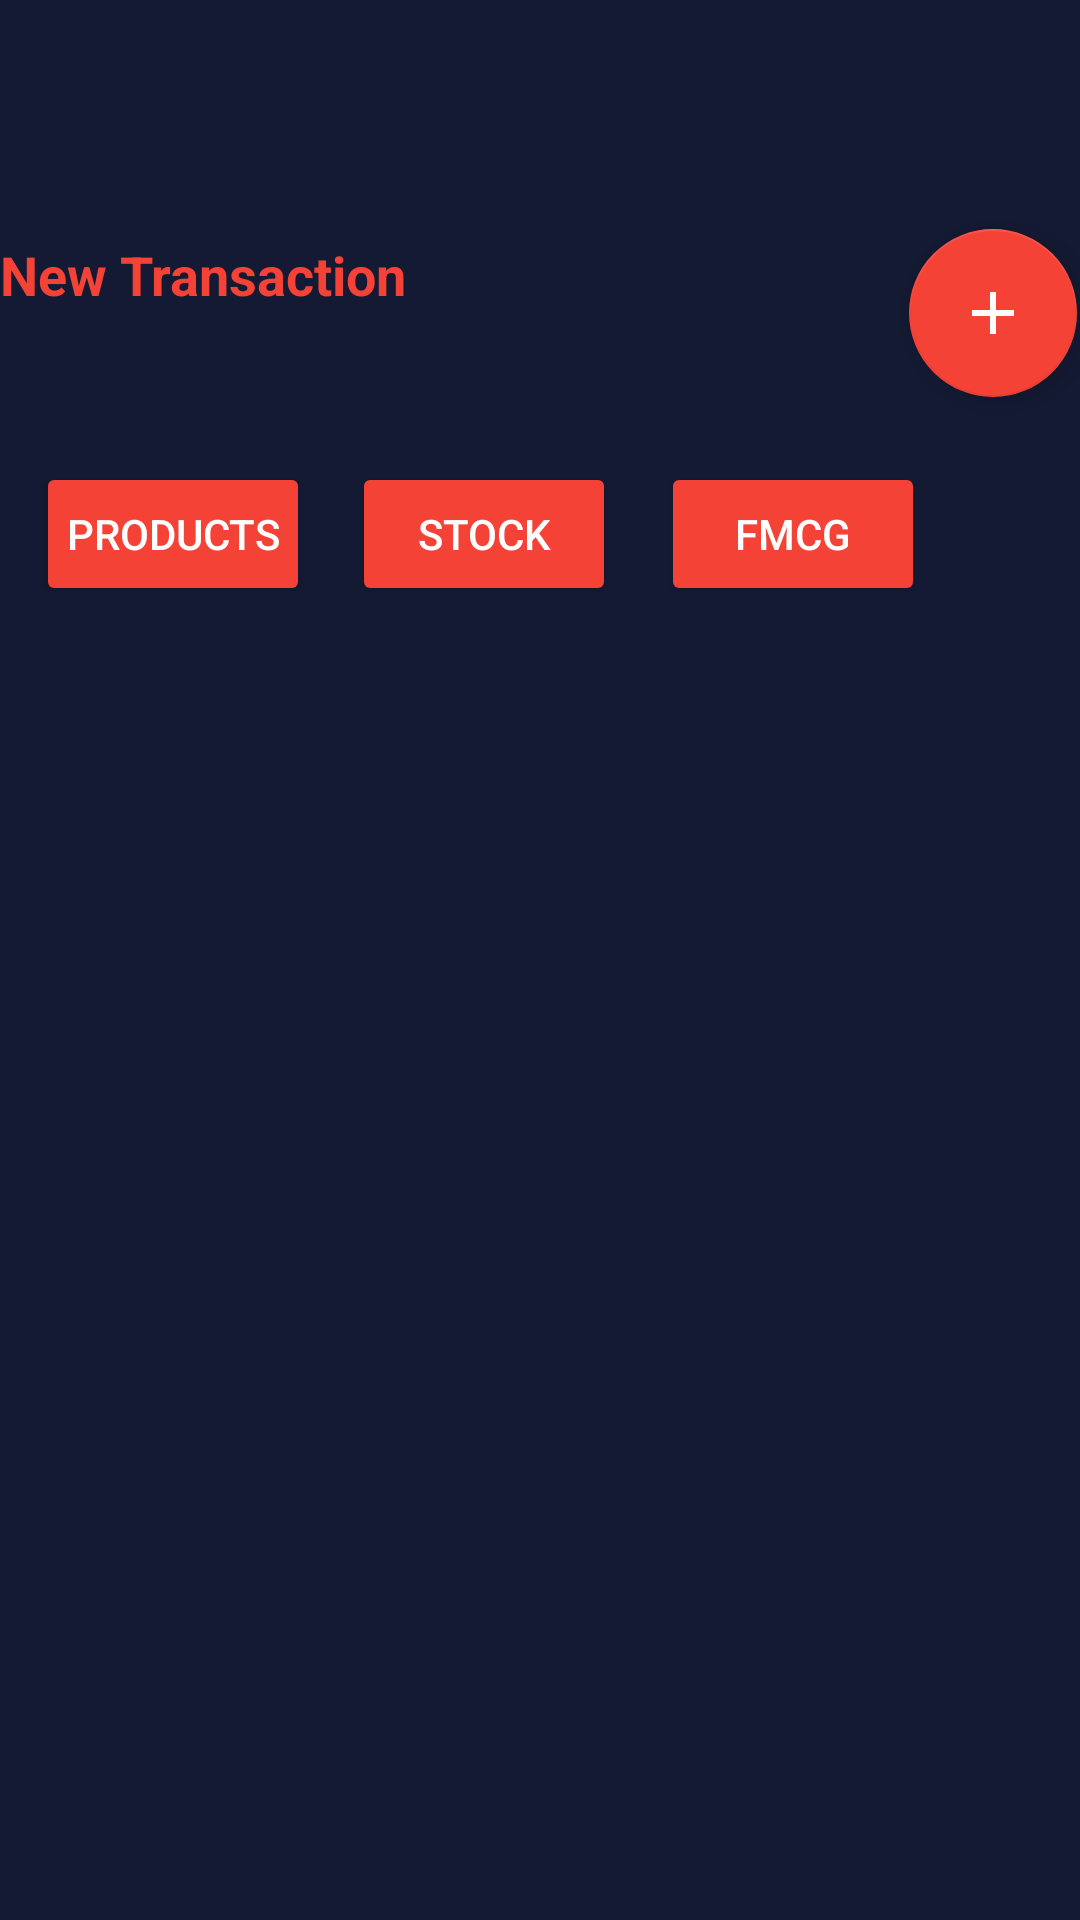

Screen size 1080 × 1920. Icon name, then its box in pixels as (x1, y1, x2, y2):
add: (909, 229, 1077, 397)
